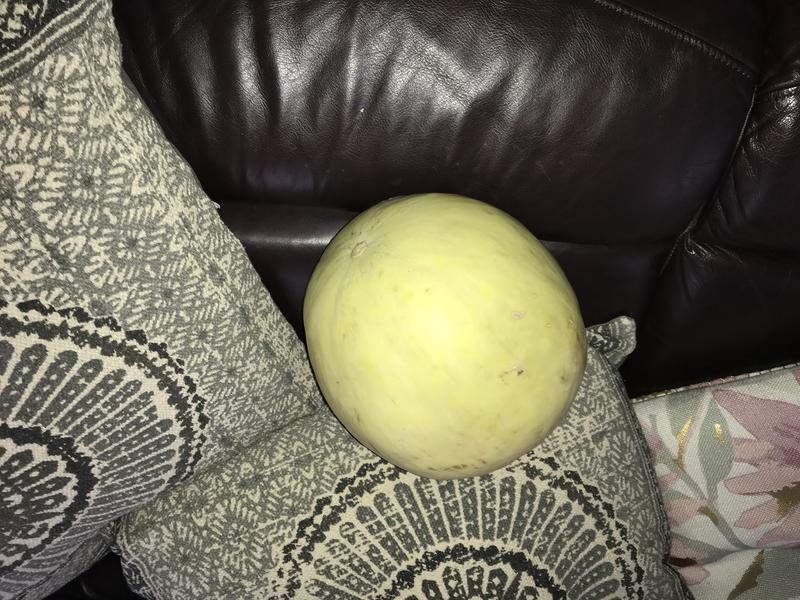honeydew: (300, 182, 591, 484)
